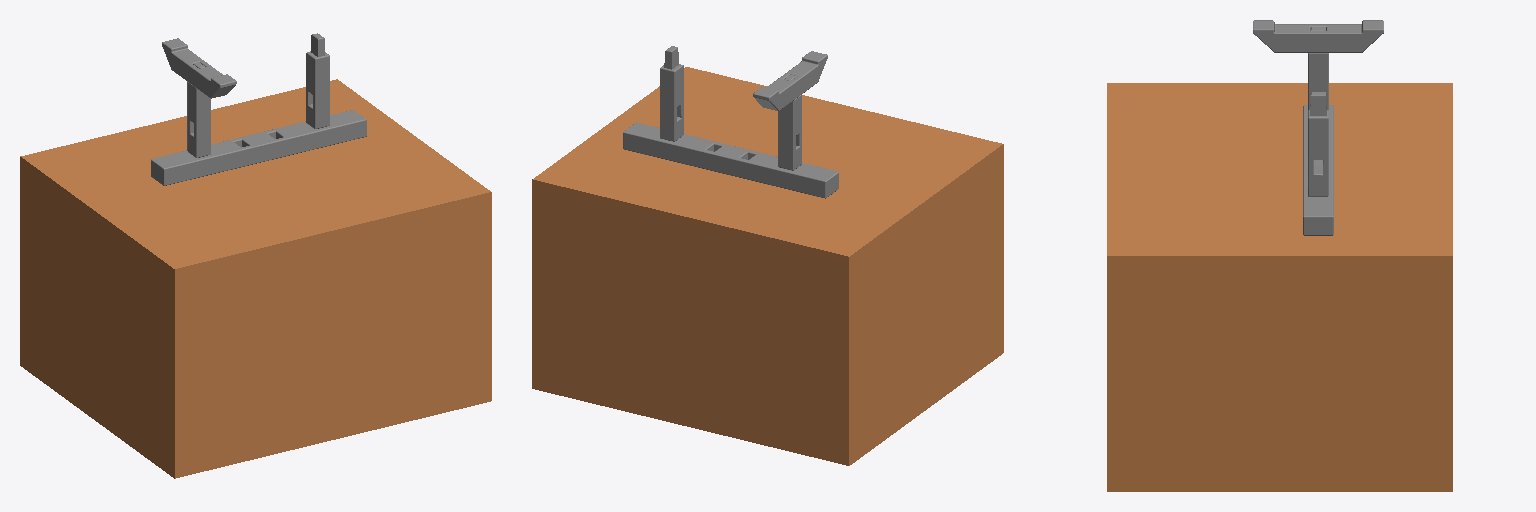
The robot description file, URDF, robot "table_beam_2x_1_scene_0000":
<?xml version="1.0"?>
<robot name="table_beam_2x_1_scene_0000">
  <link name="box">
    <visual>
      <material name="wood"><color rgba="0.82 0.56 0.35 1.0"/></material>
      <origin xyz="0 0 0"/>
      <geometry><box size="0.475 0.4 0.3"/></geometry>
    </visual>
    <collision>
      <origin xyz="0 0 0"/>
      <geometry><box size="0.475 0.4 0.3"/></geometry>
    </collision>
    <inertial>
      <mass value="500"/>
      <friction value="1.0"/>
      <inertia ixx="1000.0" ixy="0.0" ixz="0.0" iyy="1000.0" iyz="0.0" izz="1000.0"/>
    </inertial>
  </link>
  <link name="part_6_canonical">
    <visual>
      <origin xyz="0 0 0" rpy="0 0 0"/>
      <geometry><mesh filename="../../6/6_canonical.obj" scale="1 1 1"/></geometry>
      <material name="placed_0"><color rgba="0.6 0.6 0.6 1.0"/></material>
    </visual>
    <collision>
      <origin xyz="0 0 0" rpy="0 0 0"/>
      <geometry><mesh filename="../../6/6_canonical.obj" scale="1 1 1"/></geometry>
    </collision>
  </link>
  <joint name="part_6_canonical_joint" type="fixed">
    <parent link="box"/>
    <child link="part_6_canonical"/>
    <origin xyz="0.029708 0.044456 0.162666" rpy="0.000000 0.000000 0.000000"/>
  </joint>
  <link name="part_2_canonical">
    <visual>
      <origin xyz="0 0 0" rpy="0 0 0"/>
      <geometry><mesh filename="../../2/2_canonical.obj" scale="1 1 1"/></geometry>
      <material name="placed_1"><color rgba="0.6 0.6 0.6 1.0"/></material>
    </visual>
    <collision>
      <origin xyz="0 0 0" rpy="0 0 0"/>
      <geometry><mesh filename="../../2/2_canonical.obj" scale="1 1 1"/></geometry>
    </collision>
  </link>
  <joint name="part_2_canonical_joint" type="fixed">
    <parent link="box"/>
    <child link="part_2_canonical"/>
    <origin xyz="-0.059219 0.044456 0.225384" rpy="0.000000 -1.570796 0.000000"/>
  </joint>
  <link name="part_0_canonical">
    <visual>
      <origin xyz="0 0 0" rpy="0 0 0"/>
      <geometry><mesh filename="../../0/0_canonical.obj" scale="1 1 1"/></geometry>
      <material name="placed_2"><color rgba="0.6 0.6 0.6 1.0"/></material>
    </visual>
    <collision>
      <origin xyz="0 0 0" rpy="0 0 0"/>
      <geometry><mesh filename="../../0/0_canonical.obj" scale="1 1 1"/></geometry>
    </collision>
  </link>
  <joint name="part_0_canonical_joint" type="fixed">
    <parent link="box"/>
    <child link="part_0_canonical"/>
    <origin xyz="-0.059192 0.044456 0.292243" rpy="1.570796 0.000000 -1.570796"/>
  </joint>
  <link name="part_3_hull_0">
    <visual>
      <origin xyz="0 0 0" rpy="0 0 0"/>
      <geometry><mesh filename="../../3/coacd/decomp_0.obj" scale="1 1 1"/></geometry>
      <material name="placed_3"><color rgba="0.6 0.6 0.6 1.0"/></material>
    </visual>
    <collision>
      <origin xyz="0 0 0" rpy="0 0 0"/>
      <geometry><mesh filename="../../3/coacd/decomp_0.obj" scale="1 1 1"/></geometry>
    </collision>
  </link>
  <joint name="part_3_hull_0_joint" type="fixed">
    <parent link="box"/>
    <child link="part_3_hull_0"/>
    <origin xyz="0.118635 0.044456 0.225384" rpy="0.000000 -1.570796 0.000000"/>
  </joint>
  <link name="part_3_hull_1">
    <visual>
      <origin xyz="0 0 0" rpy="0 0 0"/>
      <geometry><mesh filename="../../3/coacd/decomp_1.obj" scale="1 1 1"/></geometry>
      <material name="placed_4"><color rgba="0.6 0.6 0.6 1.0"/></material>
    </visual>
    <collision>
      <origin xyz="0 0 0" rpy="0 0 0"/>
      <geometry><mesh filename="../../3/coacd/decomp_1.obj" scale="1 1 1"/></geometry>
    </collision>
  </link>
  <joint name="part_3_hull_1_joint" type="fixed">
    <parent link="box"/>
    <child link="part_3_hull_1"/>
    <origin xyz="0.118635 0.044456 0.225384" rpy="0.000000 -1.570796 0.000000"/>
  </joint>
  <link name="part_3_hull_2">
    <visual>
      <origin xyz="0 0 0" rpy="0 0 0"/>
      <geometry><mesh filename="../../3/coacd/decomp_10.obj" scale="1 1 1"/></geometry>
      <material name="placed_5"><color rgba="0.6 0.6 0.6 1.0"/></material>
    </visual>
    <collision>
      <origin xyz="0 0 0" rpy="0 0 0"/>
      <geometry><mesh filename="../../3/coacd/decomp_10.obj" scale="1 1 1"/></geometry>
    </collision>
  </link>
  <joint name="part_3_hull_2_joint" type="fixed">
    <parent link="box"/>
    <child link="part_3_hull_2"/>
    <origin xyz="0.118635 0.044456 0.225384" rpy="0.000000 -1.570796 0.000000"/>
  </joint>
  <link name="part_3_hull_3">
    <visual>
      <origin xyz="0 0 0" rpy="0 0 0"/>
      <geometry><mesh filename="../../3/coacd/decomp_11.obj" scale="1 1 1"/></geometry>
      <material name="placed_6"><color rgba="0.6 0.6 0.6 1.0"/></material>
    </visual>
    <collision>
      <origin xyz="0 0 0" rpy="0 0 0"/>
      <geometry><mesh filename="../../3/coacd/decomp_11.obj" scale="1 1 1"/></geometry>
    </collision>
  </link>
  <joint name="part_3_hull_3_joint" type="fixed">
    <parent link="box"/>
    <child link="part_3_hull_3"/>
    <origin xyz="0.118635 0.044456 0.225384" rpy="0.000000 -1.570796 0.000000"/>
  </joint>
  <link name="part_3_hull_4">
    <visual>
      <origin xyz="0 0 0" rpy="0 0 0"/>
      <geometry><mesh filename="../../3/coacd/decomp_12.obj" scale="1 1 1"/></geometry>
      <material name="placed_7"><color rgba="0.6 0.6 0.6 1.0"/></material>
    </visual>
    <collision>
      <origin xyz="0 0 0" rpy="0 0 0"/>
      <geometry><mesh filename="../../3/coacd/decomp_12.obj" scale="1 1 1"/></geometry>
    </collision>
  </link>
  <joint name="part_3_hull_4_joint" type="fixed">
    <parent link="box"/>
    <child link="part_3_hull_4"/>
    <origin xyz="0.118635 0.044456 0.225384" rpy="0.000000 -1.570796 0.000000"/>
  </joint>
  <link name="part_3_hull_5">
    <visual>
      <origin xyz="0 0 0" rpy="0 0 0"/>
      <geometry><mesh filename="../../3/coacd/decomp_2.obj" scale="1 1 1"/></geometry>
      <material name="placed_8"><color rgba="0.6 0.6 0.6 1.0"/></material>
    </visual>
    <collision>
      <origin xyz="0 0 0" rpy="0 0 0"/>
      <geometry><mesh filename="../../3/coacd/decomp_2.obj" scale="1 1 1"/></geometry>
    </collision>
  </link>
  <joint name="part_3_hull_5_joint" type="fixed">
    <parent link="box"/>
    <child link="part_3_hull_5"/>
    <origin xyz="0.118635 0.044456 0.225384" rpy="0.000000 -1.570796 0.000000"/>
  </joint>
  <link name="part_3_hull_6">
    <visual>
      <origin xyz="0 0 0" rpy="0 0 0"/>
      <geometry><mesh filename="../../3/coacd/decomp_3.obj" scale="1 1 1"/></geometry>
      <material name="placed_9"><color rgba="0.6 0.6 0.6 1.0"/></material>
    </visual>
    <collision>
      <origin xyz="0 0 0" rpy="0 0 0"/>
      <geometry><mesh filename="../../3/coacd/decomp_3.obj" scale="1 1 1"/></geometry>
    </collision>
  </link>
  <joint name="part_3_hull_6_joint" type="fixed">
    <parent link="box"/>
    <child link="part_3_hull_6"/>
    <origin xyz="0.118635 0.044456 0.225384" rpy="0.000000 -1.570796 0.000000"/>
  </joint>
  <link name="part_3_hull_7">
    <visual>
      <origin xyz="0 0 0" rpy="0 0 0"/>
      <geometry><mesh filename="../../3/coacd/decomp_4.obj" scale="1 1 1"/></geometry>
      <material name="placed_10"><color rgba="0.6 0.6 0.6 1.0"/></material>
    </visual>
    <collision>
      <origin xyz="0 0 0" rpy="0 0 0"/>
      <geometry><mesh filename="../../3/coacd/decomp_4.obj" scale="1 1 1"/></geometry>
    </collision>
  </link>
  <joint name="part_3_hull_7_joint" type="fixed">
    <parent link="box"/>
    <child link="part_3_hull_7"/>
    <origin xyz="0.118635 0.044456 0.225384" rpy="0.000000 -1.570796 0.000000"/>
  </joint>
  <link name="part_3_hull_8">
    <visual>
      <origin xyz="0 0 0" rpy="0 0 0"/>
      <geometry><mesh filename="../../3/coacd/decomp_5.obj" scale="1 1 1"/></geometry>
      <material name="placed_11"><color rgba="0.6 0.6 0.6 1.0"/></material>
    </visual>
    <collision>
      <origin xyz="0 0 0" rpy="0 0 0"/>
      <geometry><mesh filename="../../3/coacd/decomp_5.obj" scale="1 1 1"/></geometry>
    </collision>
  </link>
  <joint name="part_3_hull_8_joint" type="fixed">
    <parent link="box"/>
    <child link="part_3_hull_8"/>
    <origin xyz="0.118635 0.044456 0.225384" rpy="0.000000 -1.570796 0.000000"/>
  </joint>
  <link name="part_3_hull_9">
    <visual>
      <origin xyz="0 0 0" rpy="0 0 0"/>
      <geometry><mesh filename="../../3/coacd/decomp_6.obj" scale="1 1 1"/></geometry>
      <material name="placed_12"><color rgba="0.6 0.6 0.6 1.0"/></material>
    </visual>
    <collision>
      <origin xyz="0 0 0" rpy="0 0 0"/>
      <geometry><mesh filename="../../3/coacd/decomp_6.obj" scale="1 1 1"/></geometry>
    </collision>
  </link>
  <joint name="part_3_hull_9_joint" type="fixed">
    <parent link="box"/>
    <child link="part_3_hull_9"/>
    <origin xyz="0.118635 0.044456 0.225384" rpy="0.000000 -1.570796 0.000000"/>
  </joint>
  <link name="part_3_hull_10">
    <visual>
      <origin xyz="0 0 0" rpy="0 0 0"/>
      <geometry><mesh filename="../../3/coacd/decomp_7.obj" scale="1 1 1"/></geometry>
      <material name="placed_13"><color rgba="0.6 0.6 0.6 1.0"/></material>
    </visual>
    <collision>
      <origin xyz="0 0 0" rpy="0 0 0"/>
      <geometry><mesh filename="../../3/coacd/decomp_7.obj" scale="1 1 1"/></geometry>
    </collision>
  </link>
  <joint name="part_3_hull_10_joint" type="fixed">
    <parent link="box"/>
    <child link="part_3_hull_10"/>
    <origin xyz="0.118635 0.044456 0.225384" rpy="0.000000 -1.570796 0.000000"/>
  </joint>
  <link name="part_3_hull_11">
    <visual>
      <origin xyz="0 0 0" rpy="0 0 0"/>
      <geometry><mesh filename="../../3/coacd/decomp_8.obj" scale="1 1 1"/></geometry>
      <material name="placed_14"><color rgba="0.6 0.6 0.6 1.0"/></material>
    </visual>
    <collision>
      <origin xyz="0 0 0" rpy="0 0 0"/>
      <geometry><mesh filename="../../3/coacd/decomp_8.obj" scale="1 1 1"/></geometry>
    </collision>
  </link>
  <joint name="part_3_hull_11_joint" type="fixed">
    <parent link="box"/>
    <child link="part_3_hull_11"/>
    <origin xyz="0.118635 0.044456 0.225384" rpy="0.000000 -1.570796 0.000000"/>
  </joint>
  <link name="part_3_hull_12">
    <visual>
      <origin xyz="0 0 0" rpy="0 0 0"/>
      <geometry><mesh filename="../../3/coacd/decomp_9.obj" scale="1 1 1"/></geometry>
      <material name="placed_15"><color rgba="0.6 0.6 0.6 1.0"/></material>
    </visual>
    <collision>
      <origin xyz="0 0 0" rpy="0 0 0"/>
      <geometry><mesh filename="../../3/coacd/decomp_9.obj" scale="1 1 1"/></geometry>
    </collision>
  </link>
  <joint name="part_3_hull_12_joint" type="fixed">
    <parent link="box"/>
    <child link="part_3_hull_12"/>
    <origin xyz="0.118635 0.044456 0.225384" rpy="0.000000 -1.570796 0.000000"/>
  </joint>
</robot>

--- What the picture shows (computed from the rendered views, not written in the file) ---
The picture shows the robot from 3 angles, left to right: view 1: azimuth 30°, elevation 25°; view 2: azimuth 150°, elevation 25°; view 3: azimuth 270°, elevation 25°; orthographic projection.
Robot: table_beam_2x_1_scene_0000 — 17 links, 16 joints (16 fixed); root link box; default pose: every joint at zero.
Visible links, largest first — view 1: box, part_6_canonical, part_0_canonical, part_2_canonical; view 2: box, part_6_canonical, part_0_canonical, part_2_canonical, part_3_hull_11; view 3: box, part_0_canonical, part_6_canonical, part_2_canonical, part_3_hull_0.
Link boxes in pixels (left/top/right/bottom): box: left=20, top=79, right=491, bottom=478; part_6_canonical: left=151, top=110, right=366, bottom=185; part_0_canonical: left=162, top=38, right=236, bottom=98; part_2_canonical: left=187, top=62, right=210, bottom=157; box: left=532, top=67, right=1003, bottom=465; part_6_canonical: left=623, top=122, right=838, bottom=198; part_0_canonical: left=753, top=51, right=827, bottom=110; part_2_canonical: left=778, top=75, right=801, bottom=170; part_3_hull_11: left=663, top=68, right=670, bottom=140; box: left=1107, top=83, right=1452, bottom=491; part_0_canonical: left=1253, top=20, right=1383, bottom=52; part_6_canonical: left=1303, top=105, right=1333, bottom=235; part_2_canonical: left=1308, top=27, right=1328, bottom=109; part_3_hull_0: left=1308, top=116, right=1328, bottom=159.
Size in the robot's own frame: 0.475 by 0.4 by 0.4575 metres.
16 mesh visuals loaded from 16 distinct referenced files (16 OBJ).
